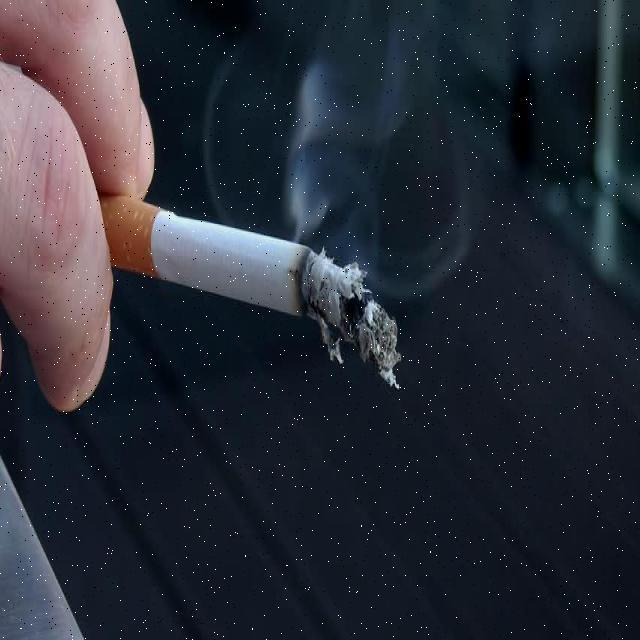smoke: (282, 62, 362, 233)
